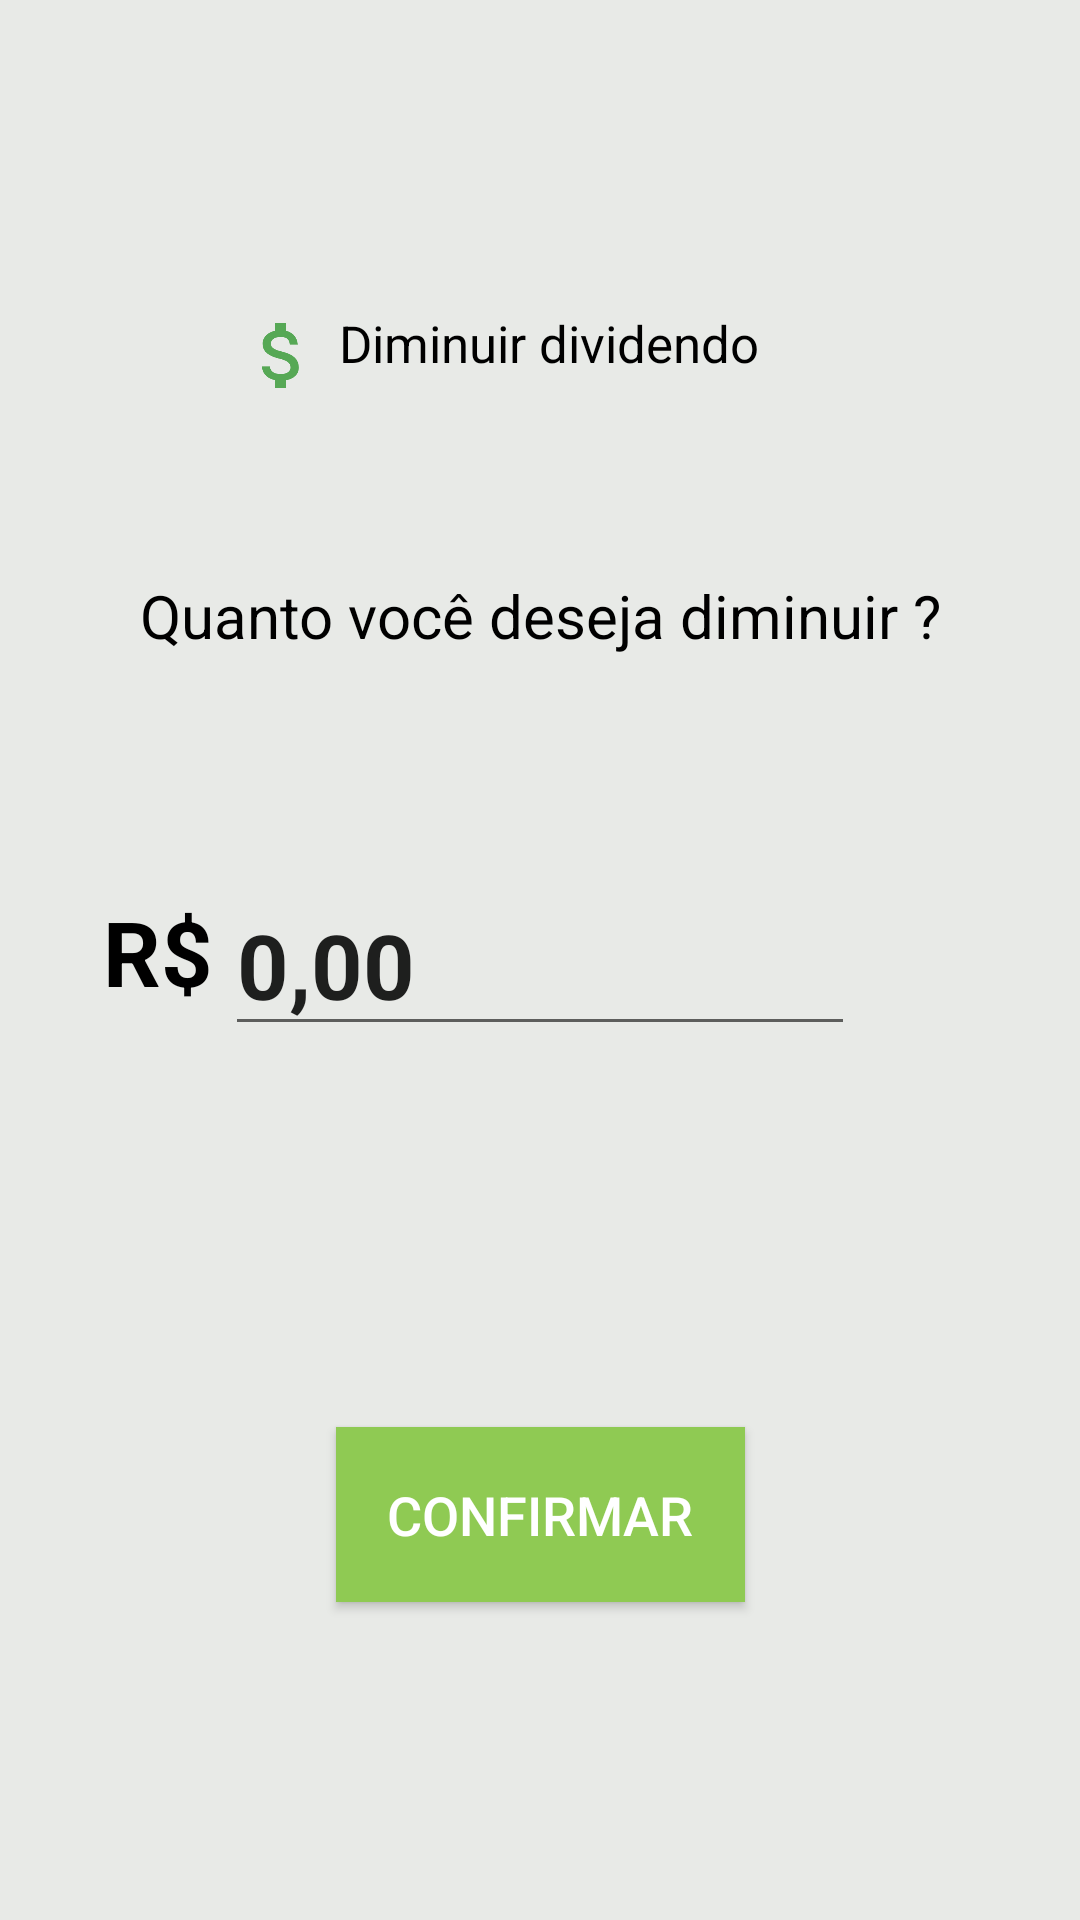

Named icons in this screenshot (1080px×1920px) and their bounding boxes, [x1,y1,x2,y2]:
attach money: [262,323,299,388]
